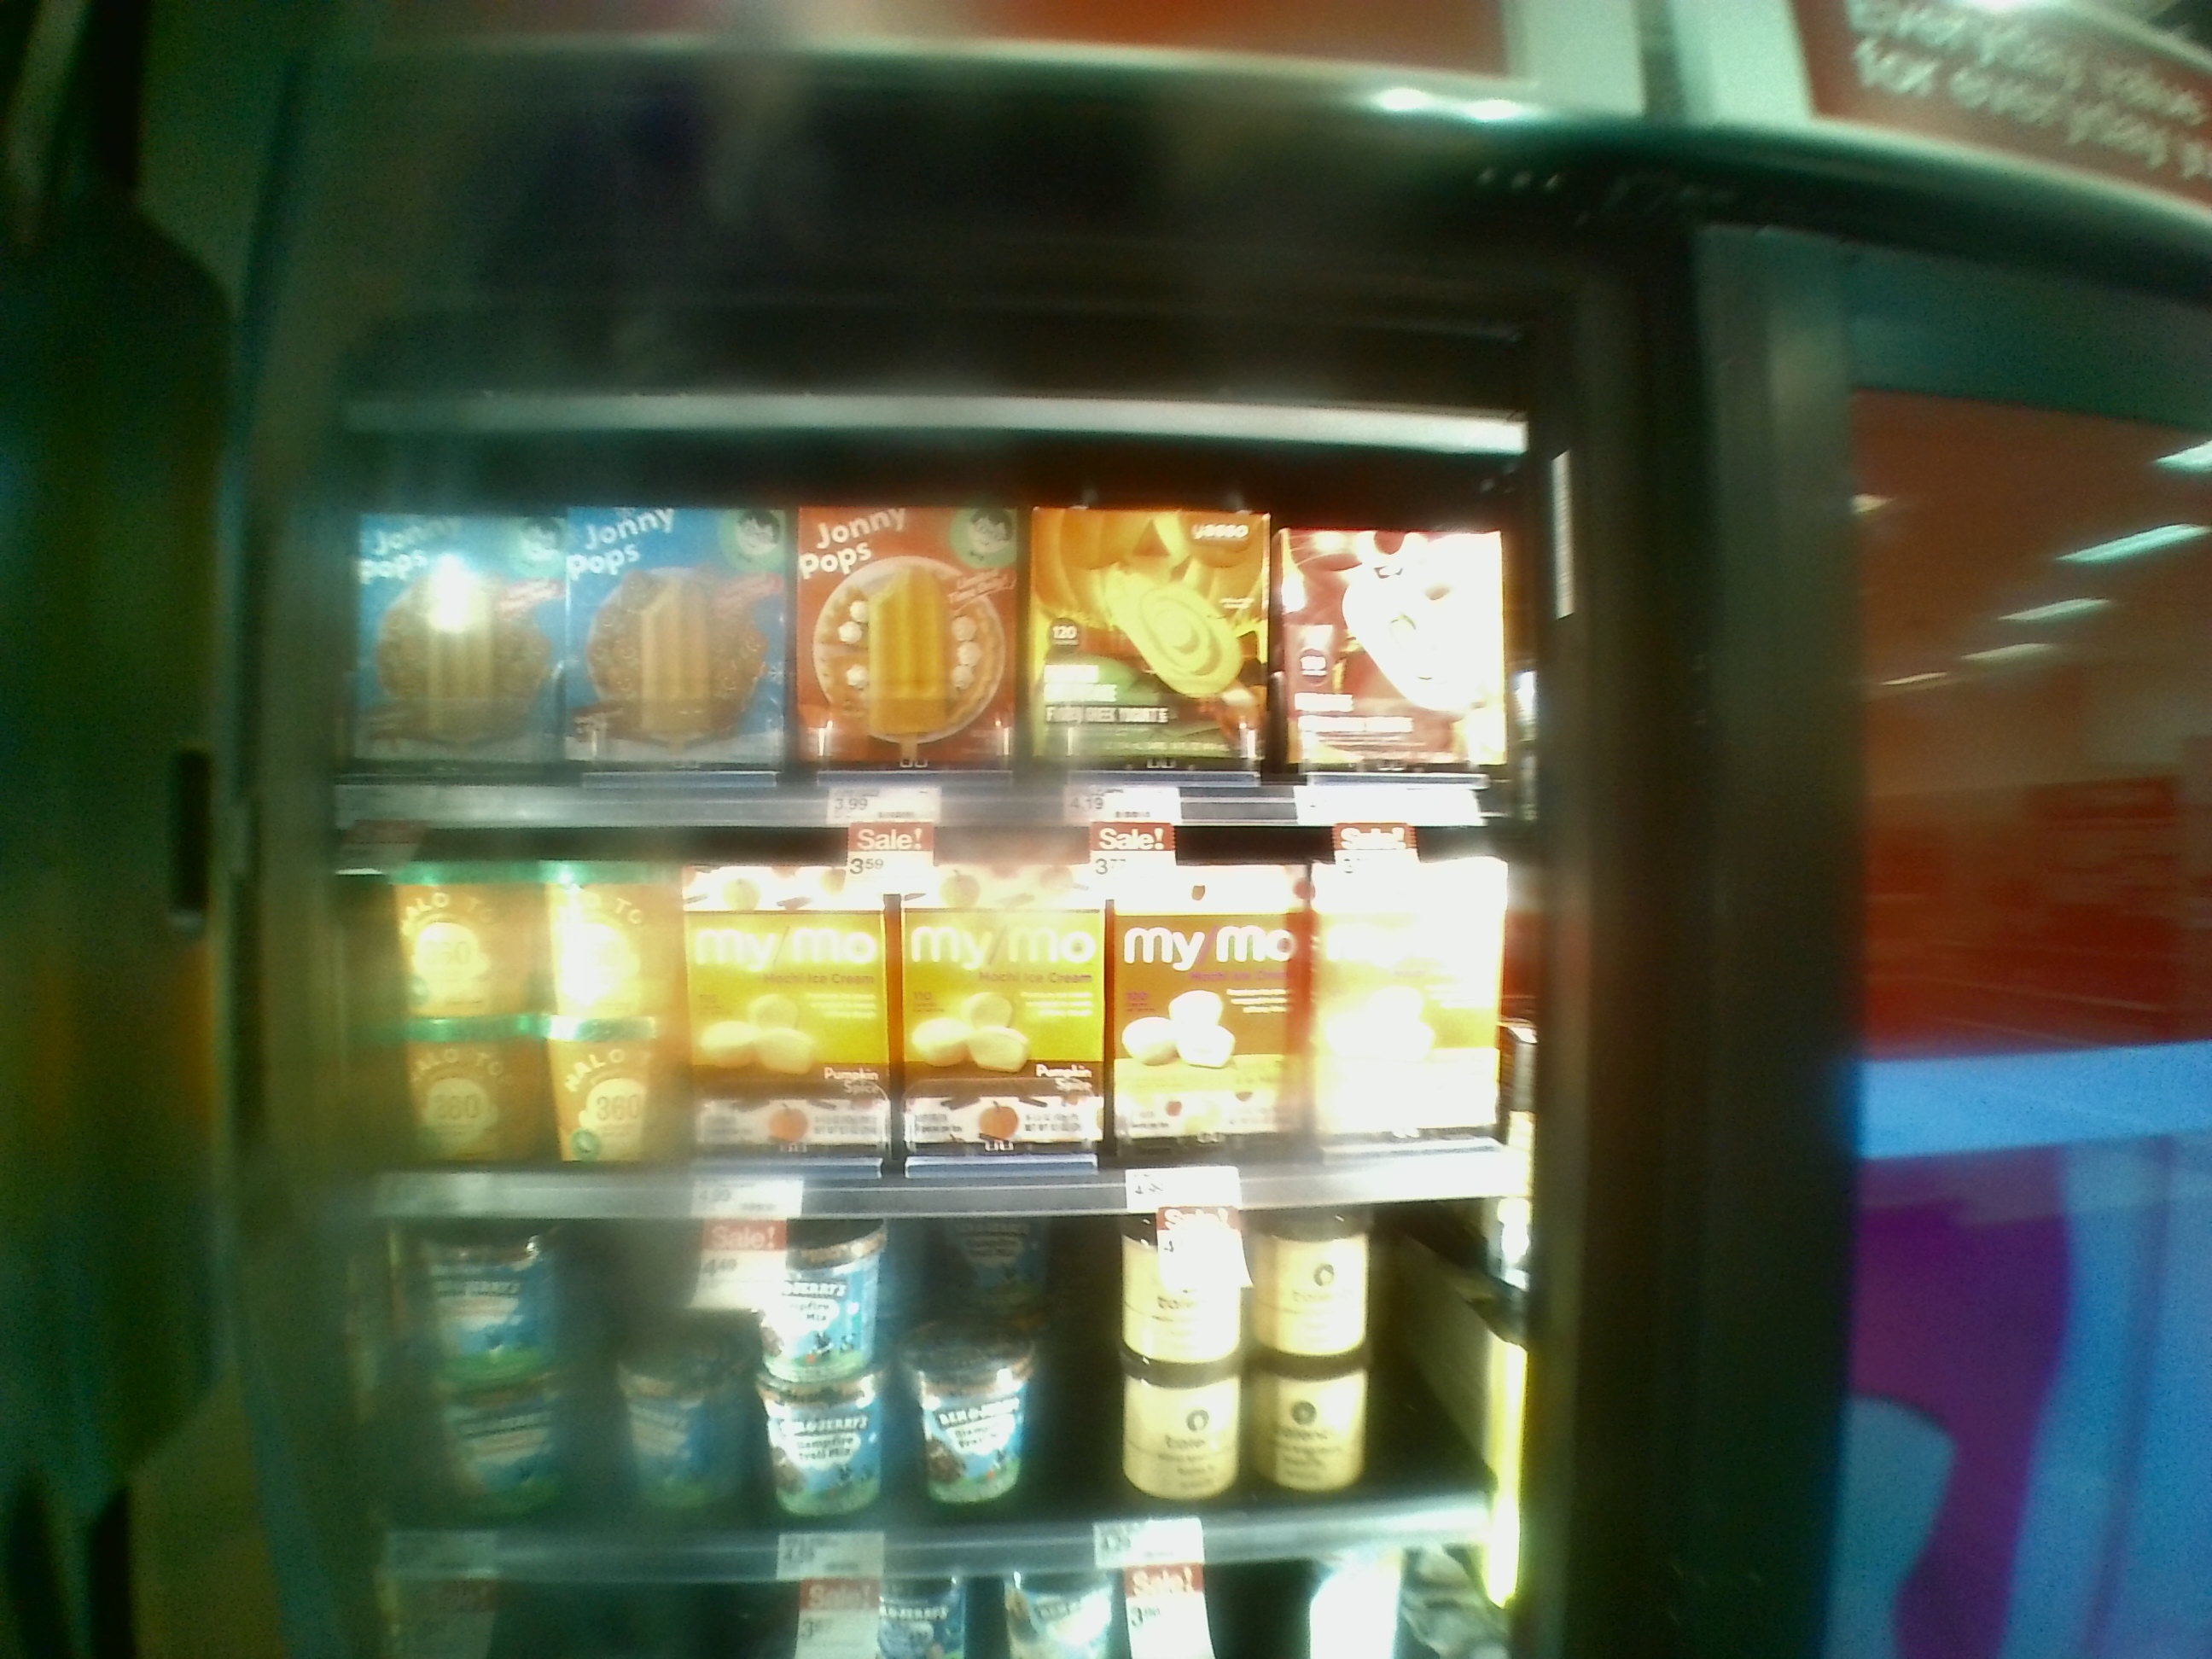shelf: (294, 779, 1555, 1208), (314, 422, 1524, 821), (265, 1185, 1529, 1567)
